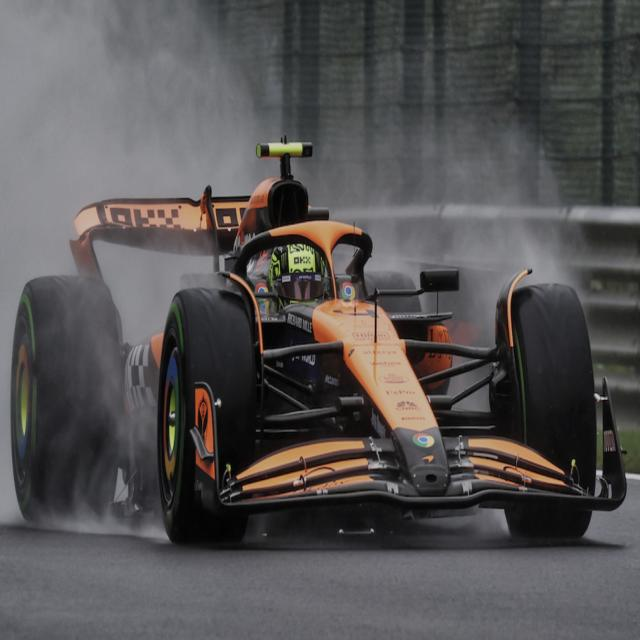McLaren: (11, 137, 627, 548)
